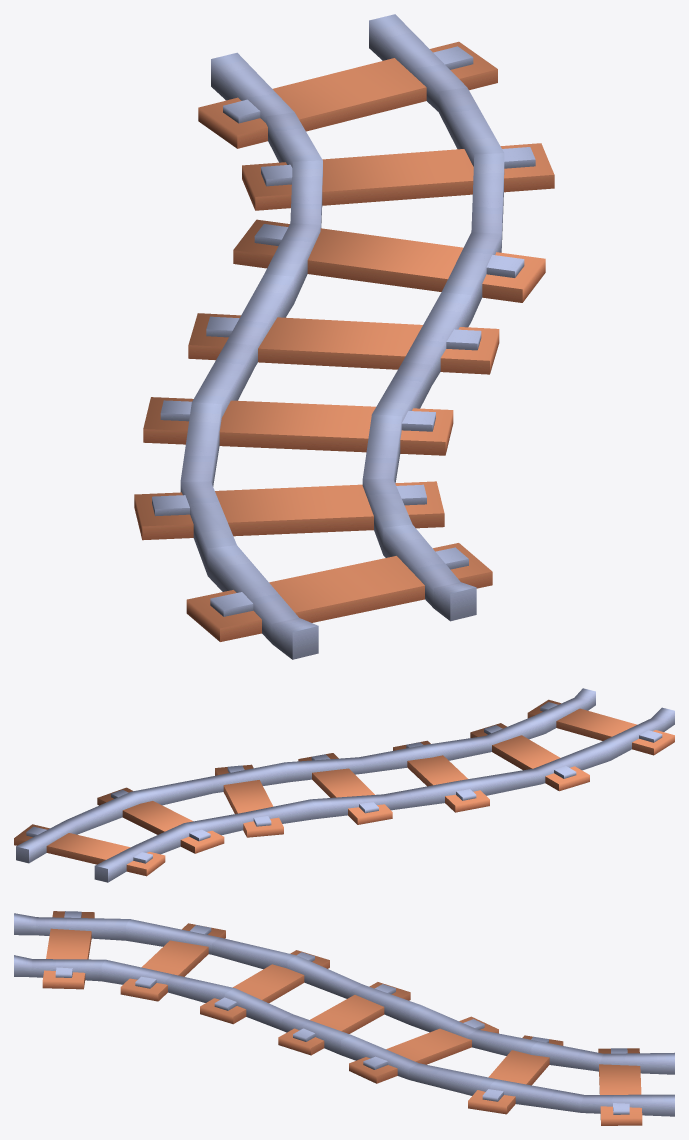
The model's file is railroad-damaged-curve.glb.
The picture shows the model from 3 angles, top to bottom: view 1: azimuth 30°, elevation 25°; view 2: azimuth 150°, elevation 25°; view 3: azimuth 270°, elevation 25°; orthographic projection. The views are drawn at different scales.
Visible parts, largest first — view 1: railroad-damaged-curve; view 2: railroad-damaged-curve; view 3: railroad-damaged-curve.
Part boxes in pixels (x1=…): railroad-damaged-curve: x1=134, y1=14, x2=554, y2=659; railroad-damaged-curve: x1=14, y1=688, x2=674, y2=882; railroad-damaged-curve: x1=14, y1=911, x2=674, y2=1125.
Bounding box in the file's own units: 2.97 × 0.1001 × 4.
Materials: 1 (1 with a texture image).
